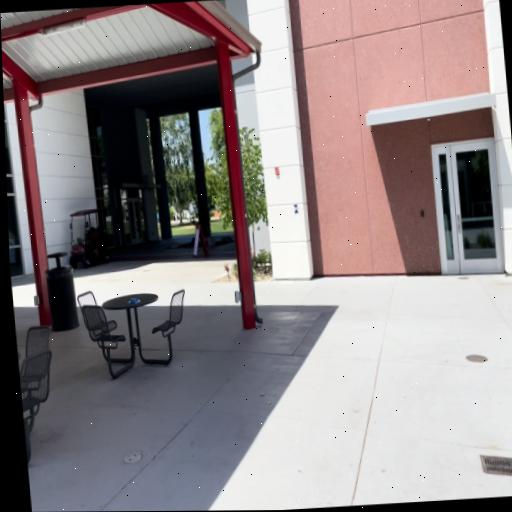target9: (293, 204, 299, 214)
